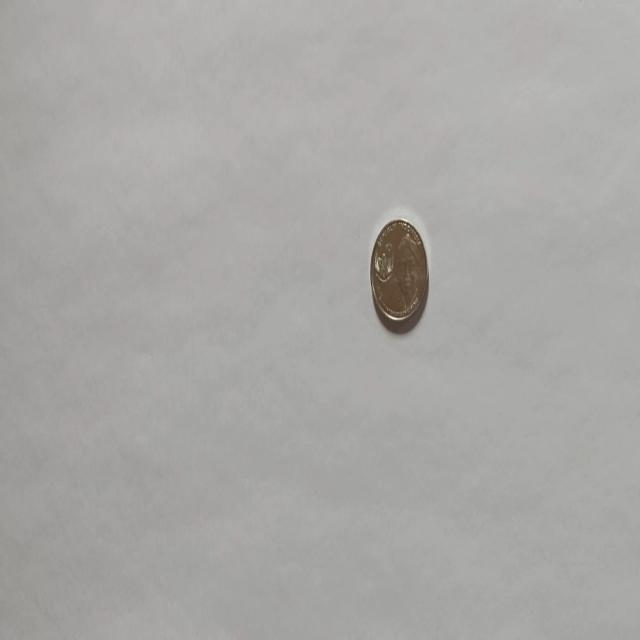dua ratus rupiah: (369, 215, 429, 332)
